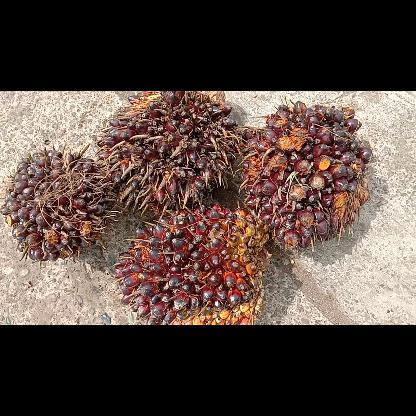Kurang masak: (240, 96, 375, 252), (112, 202, 270, 324), (93, 90, 241, 214), (0, 146, 113, 266)
